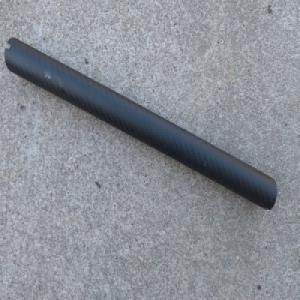LuggagePart: (3, 34, 278, 212)
